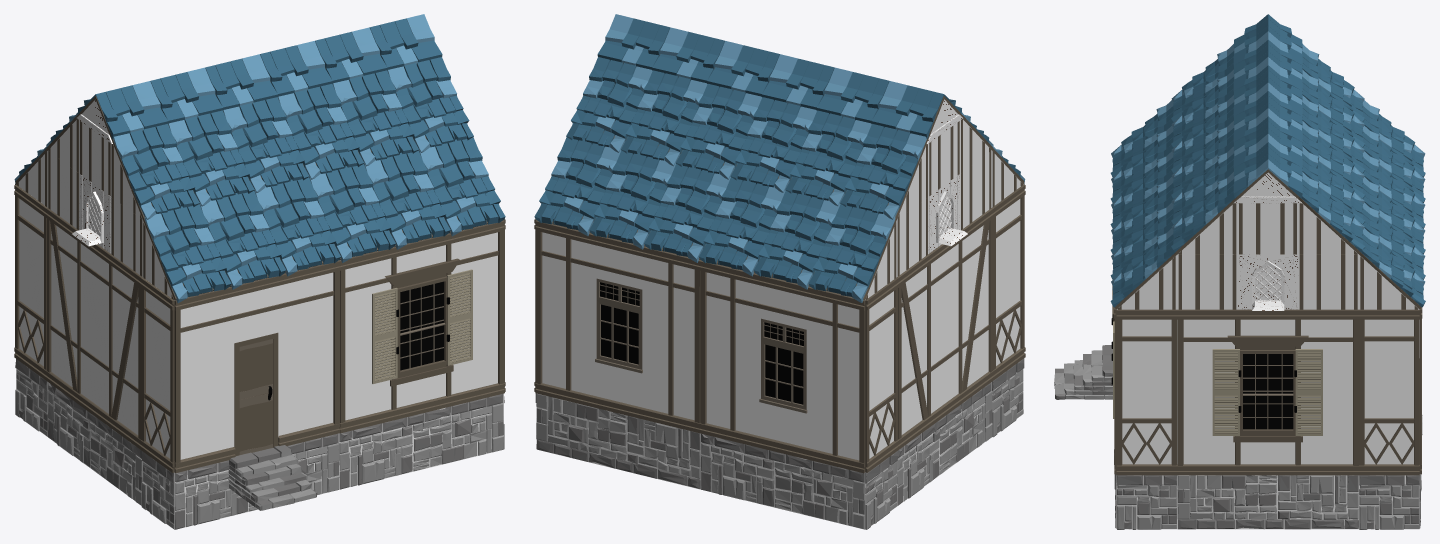
Rendered from house_01.obj.
3 renders of one model, left to right at view 1: azimuth 30°, elevation 25°; view 2: azimuth 150°, elevation 25°; view 3: azimuth 270°, elevation 25°, orthographic. The views are drawn at different scales.
Size of the model in its own units: 6.56 by 6.59 by 6.13.
